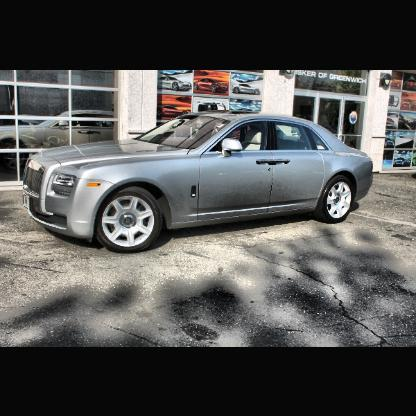Rolls-Royce Ghost Sedan 2012: (26, 112, 374, 254)
